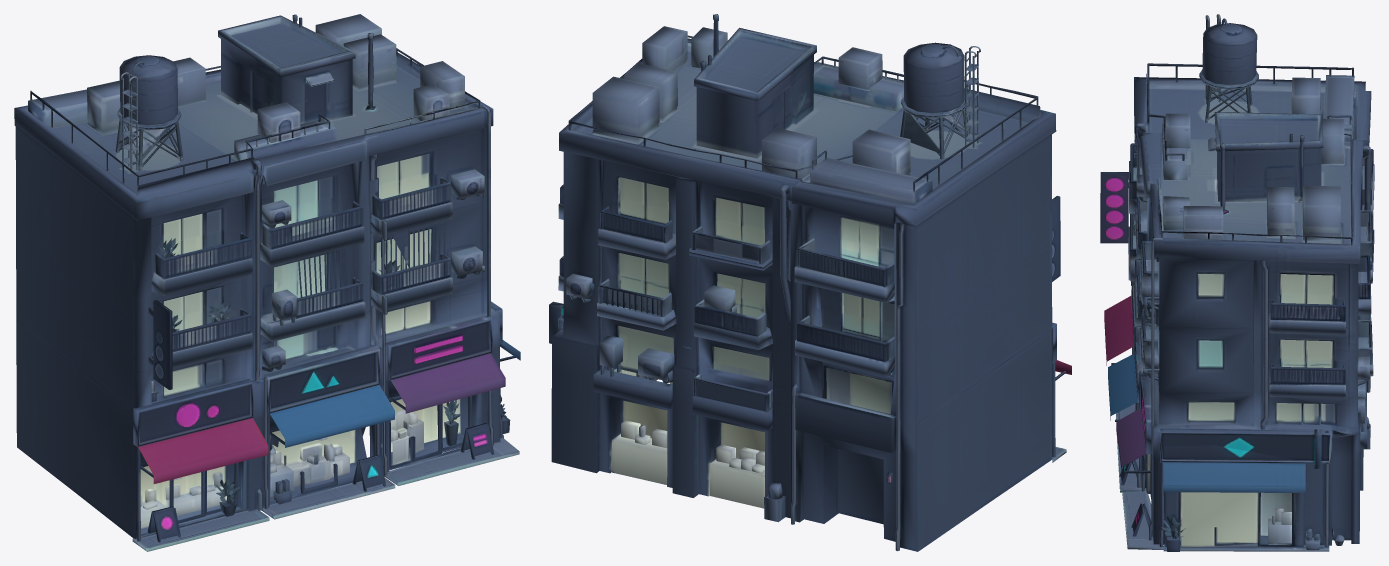
Rendered from c_shop.glb.
3 views of the same model, side by side, from view 1: azimuth 30°, elevation 25°; view 2: azimuth 150°, elevation 25°; view 3: azimuth 270°, elevation 25° (orthographic). The views are drawn at different scales.
Visible parts, largest first — view 1: tripo_node_278e5285-4659-48df-9010-6e313015d47c; view 2: tripo_node_278e5285-4659-48df-9010-6e313015d47c; view 3: tripo_node_278e5285-4659-48df-9010-6e313015d47c.
Part boxes in pixels (x1,y1,x2,y2): tripo_node_278e5285-4659-48df-9010-6e313015d47c: (14,14,520,551); tripo_node_278e5285-4659-48df-9010-6e313015d47c: (549,14,1071,551); tripo_node_278e5285-4659-48df-9010-6e313015d47c: (1100,14,1374,551).
Size of the model in its own units: 0.9673 by 0.9995 by 0.6392.
Materials: 1 (1 with a texture image).
